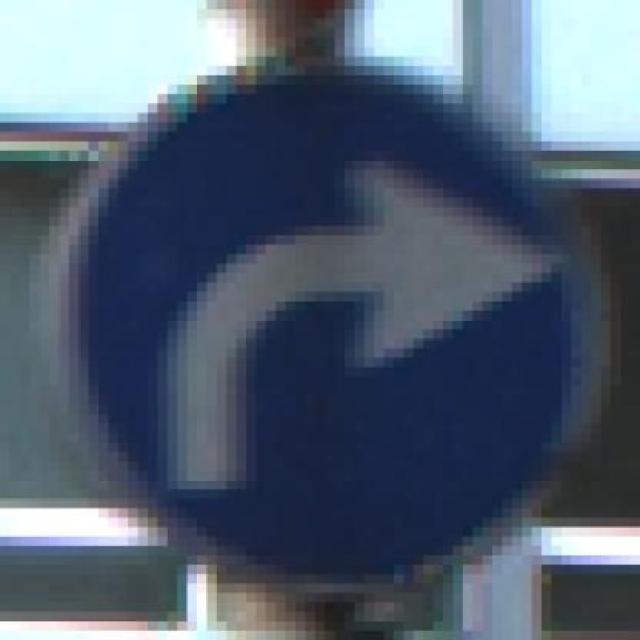Turn right ahead: (39, 65, 610, 593)
